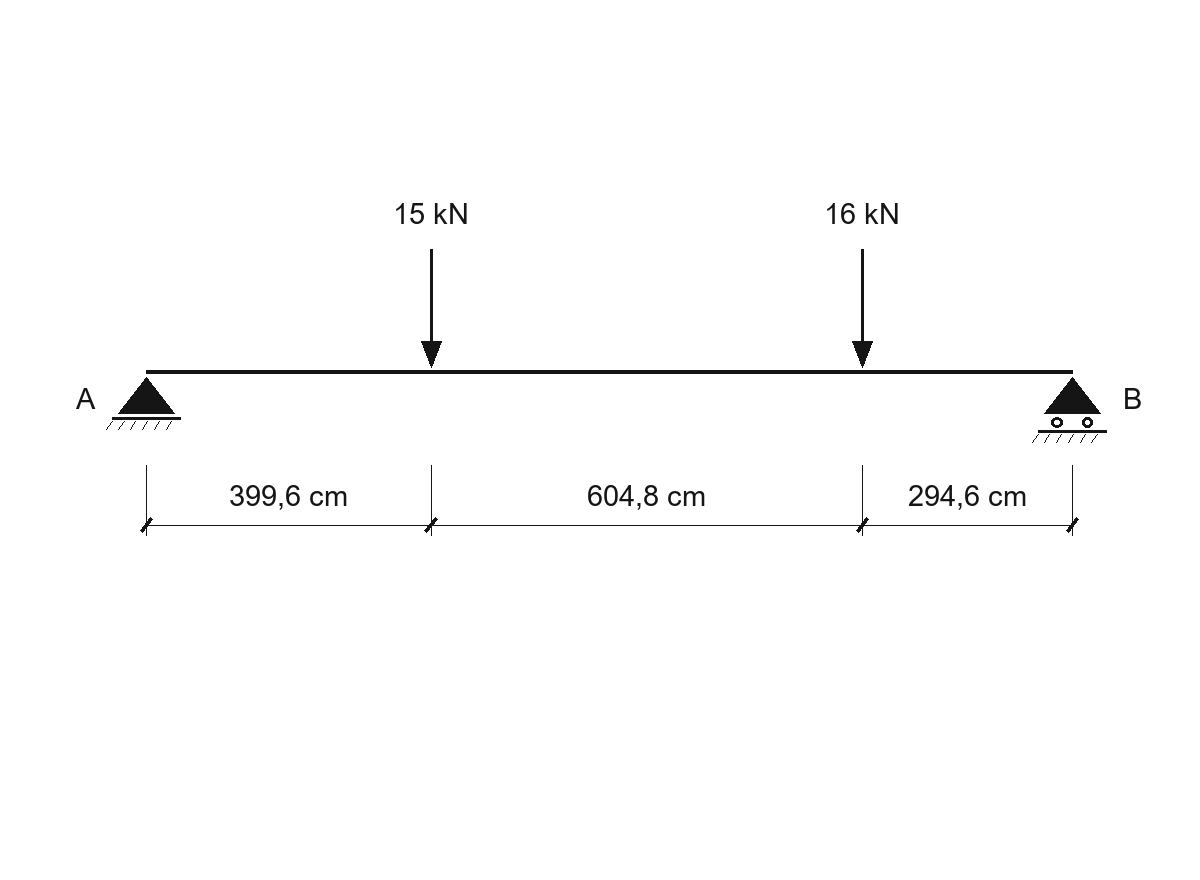pin_support: (106, 377, 181, 430)
point_load: (421, 249, 442, 368), (852, 249, 873, 368)
roller_support: (1032, 377, 1107, 443)
